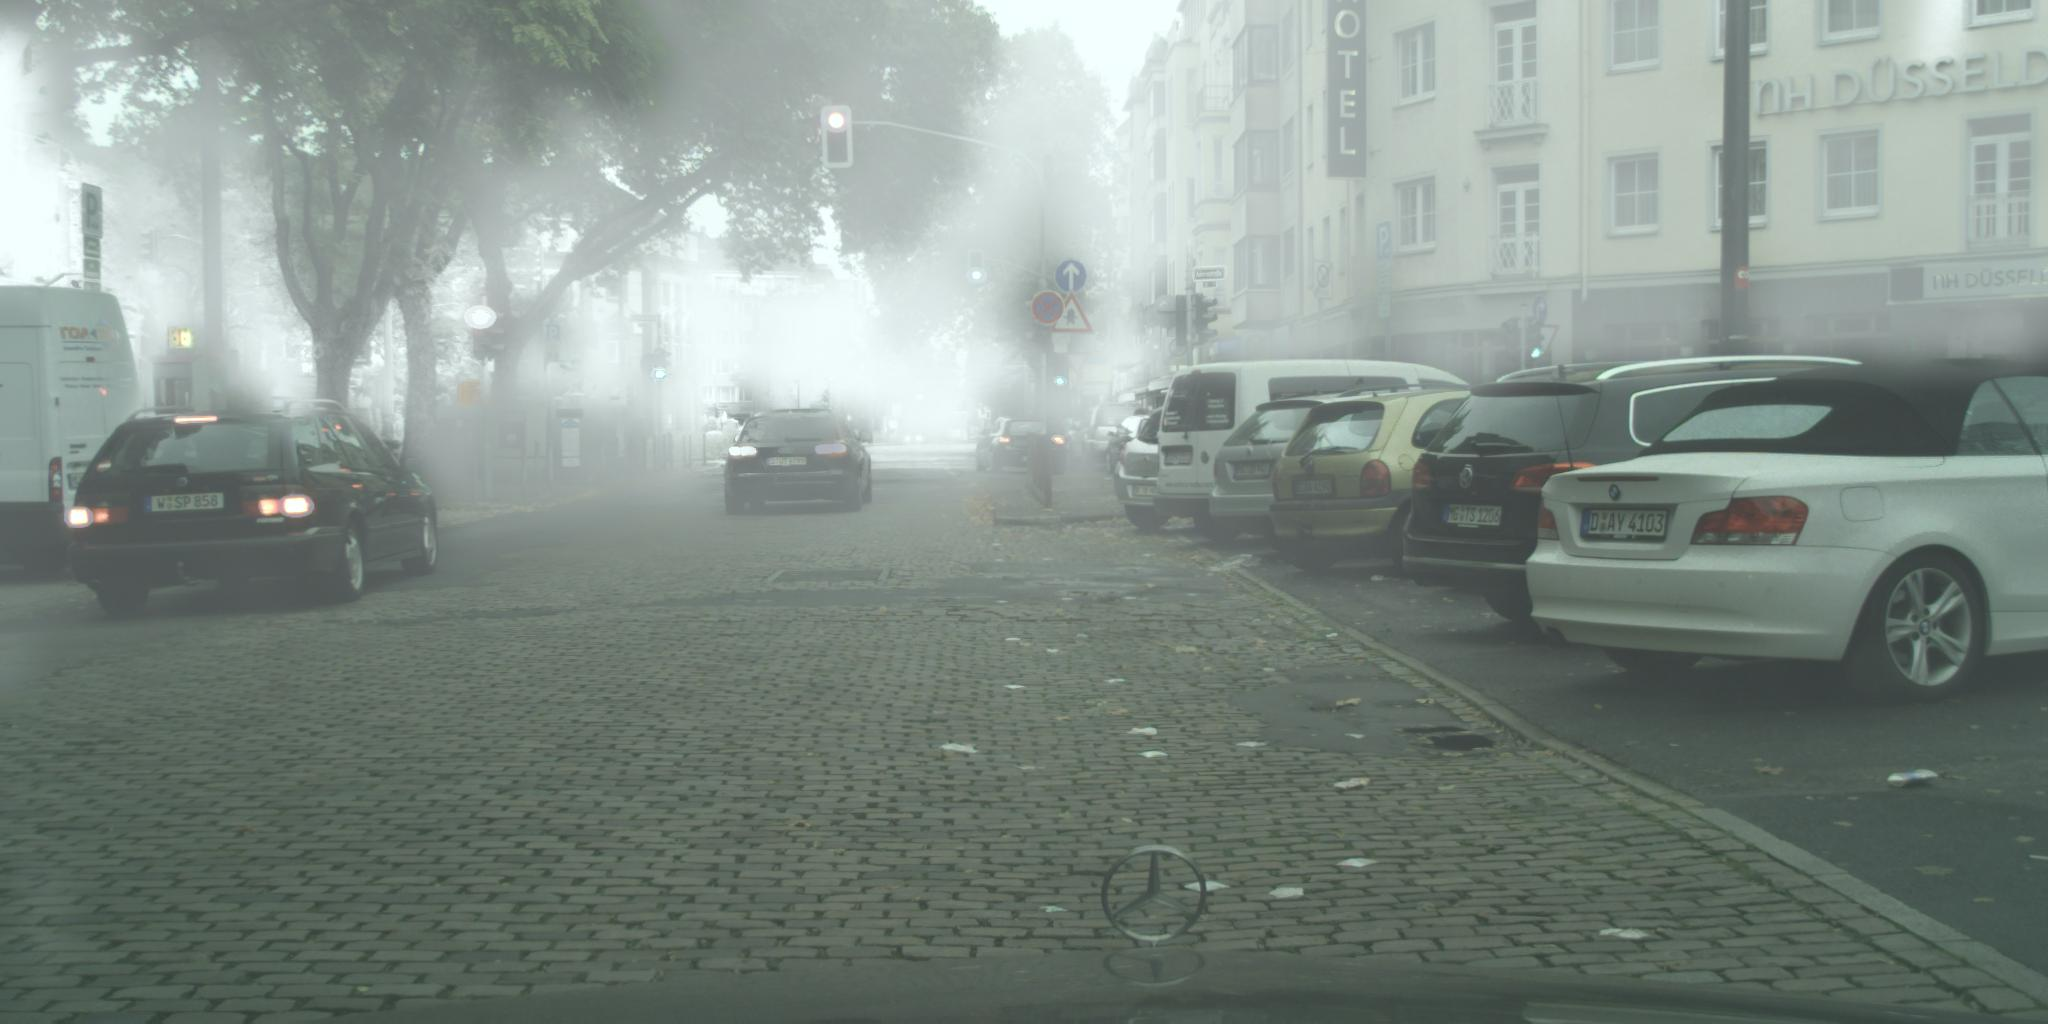car: (1527, 360, 2048, 709), (1404, 354, 1883, 633), (67, 398, 441, 622), (1155, 359, 1479, 549), (1211, 383, 1511, 562), (1, 287, 152, 581), (1271, 391, 1469, 583), (725, 409, 875, 516), (1115, 404, 1187, 534), (1067, 404, 1155, 473), (977, 418, 1070, 477), (1106, 415, 1170, 474), (903, 432, 927, 444)
